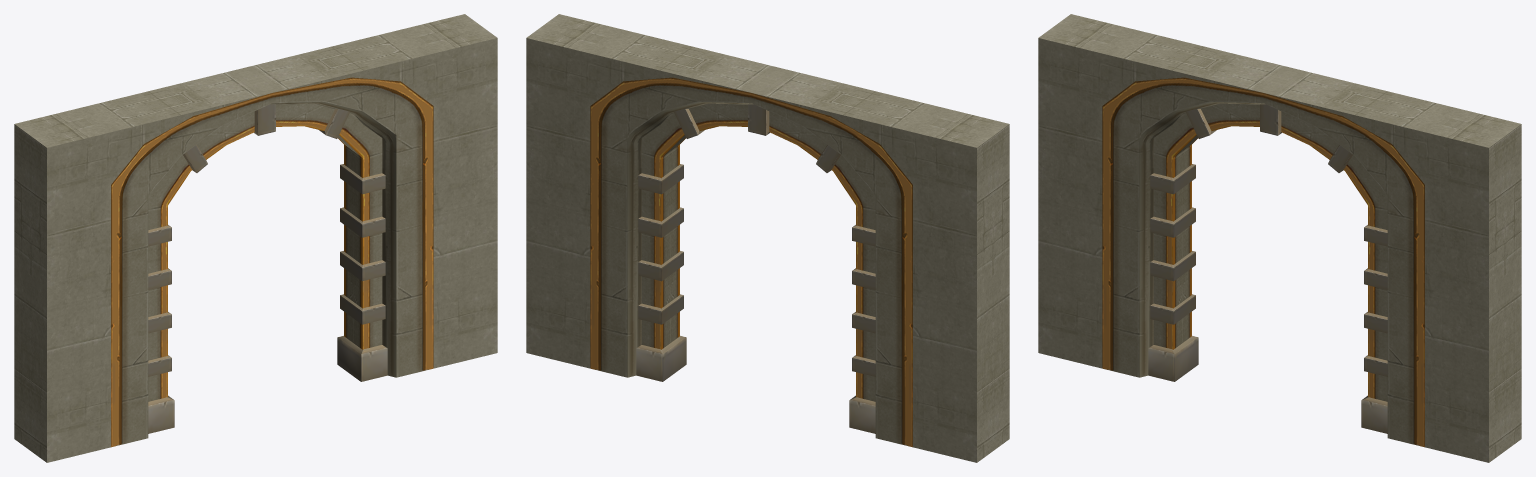
Rendered from Battle03_Wall_03.FBX.
The picture shows the model from 3 angles, left to right: view 1: azimuth 30°, elevation 25°; view 2: azimuth 150°, elevation 25°; view 3: azimuth 330°, elevation 25°; orthographic projection.
Visible parts, largest first — view 1: Battle03_Wall_03_02, Battle03_Wall_03_01; view 2: Battle03_Wall_03_02, Battle03_Wall_03_01; view 3: Battle03_Wall_03_02, Battle03_Wall_03_01.
Boxes of the visible parts, left/top/right/bottom form: Battle03_Wall_03_02: left=14, top=14, right=497, bottom=462; Battle03_Wall_03_01: left=111, top=77, right=433, bottom=447; Battle03_Wall_03_02: left=526, top=14, right=1009, bottom=462; Battle03_Wall_03_01: left=590, top=77, right=912, bottom=447; Battle03_Wall_03_02: left=1038, top=14, right=1521, bottom=462; Battle03_Wall_03_01: left=1102, top=77, right=1424, bottom=447.
Bounding box in the file's own units: 19.6 × 13.1 × 2.46.
